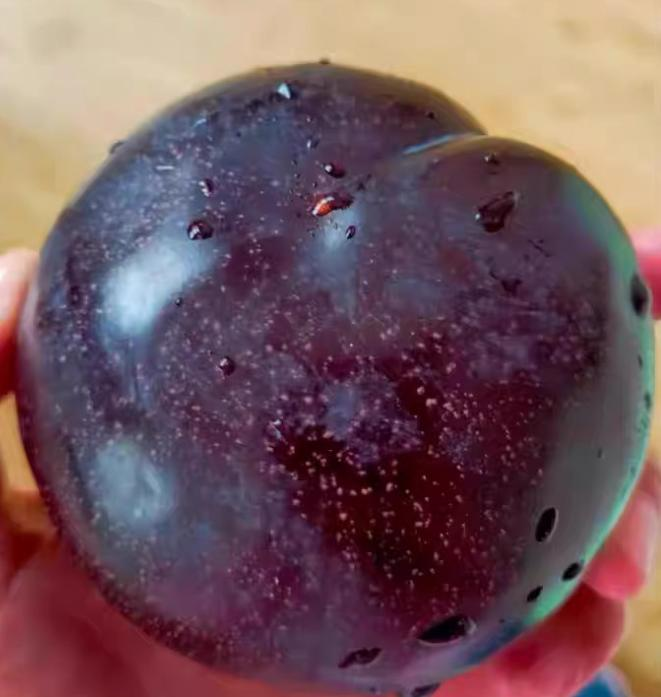plum_A: (13, 59, 655, 688)
